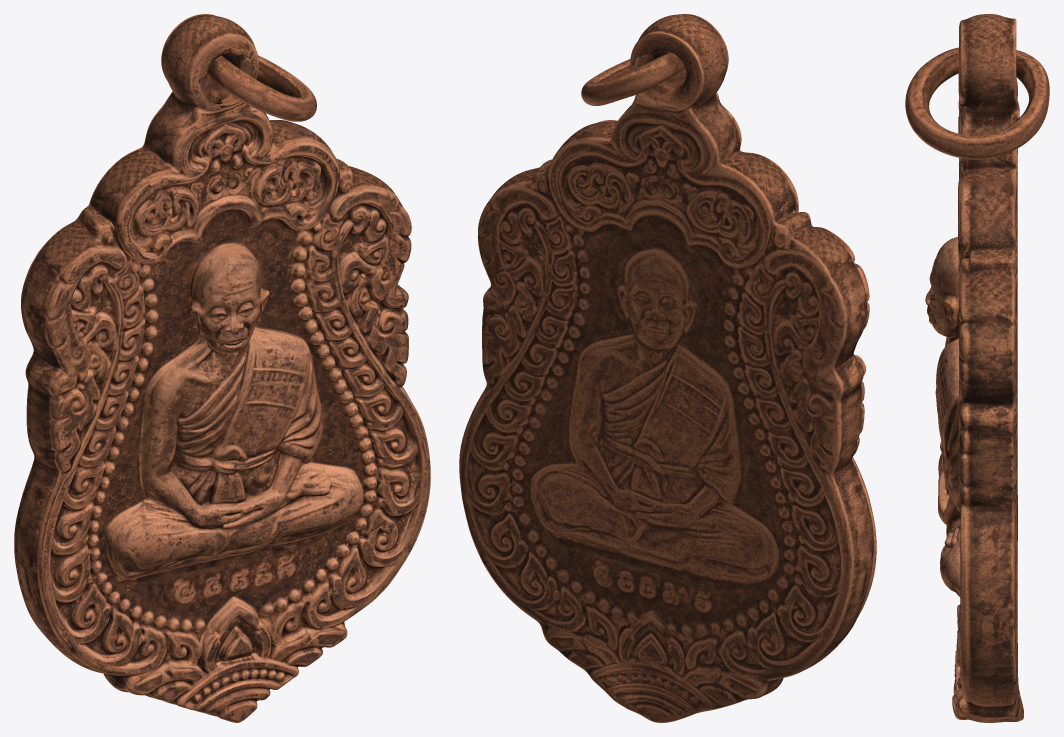
The model's file is original-rian.glb.
The picture shows the model from 3 angles, left to right: view 1: azimuth 30°, elevation 25°; view 2: azimuth 150°, elevation 25°; view 3: azimuth 270°, elevation 25°; orthographic projection.
Visible parts, largest first — view 1: Mesh_0; view 2: Mesh_0; view 3: Mesh_0.
Boxes of the visible parts, x1,y1,x2,y2 form: Mesh_0: (14,14,430,722); Mesh_0: (459,14,876,722); Mesh_0: (905,14,1049,722).
Size of the model in its own units: 1.14 by 1.9 by 0.3578.
1 material, 1 textured.
